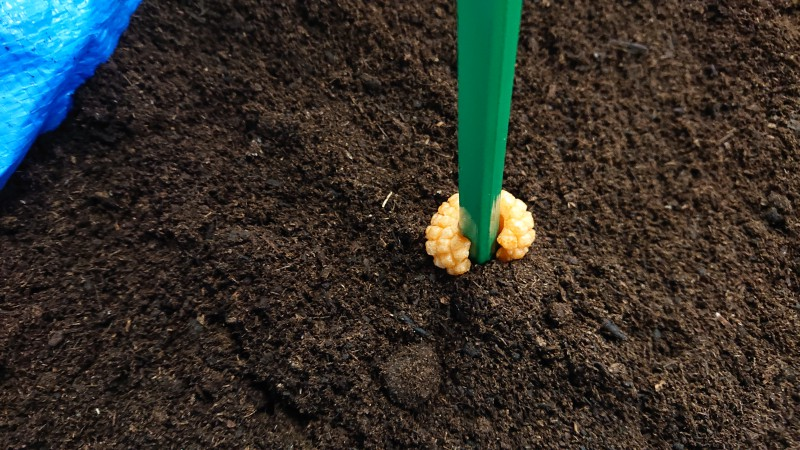eggs: (418, 184, 541, 276)
